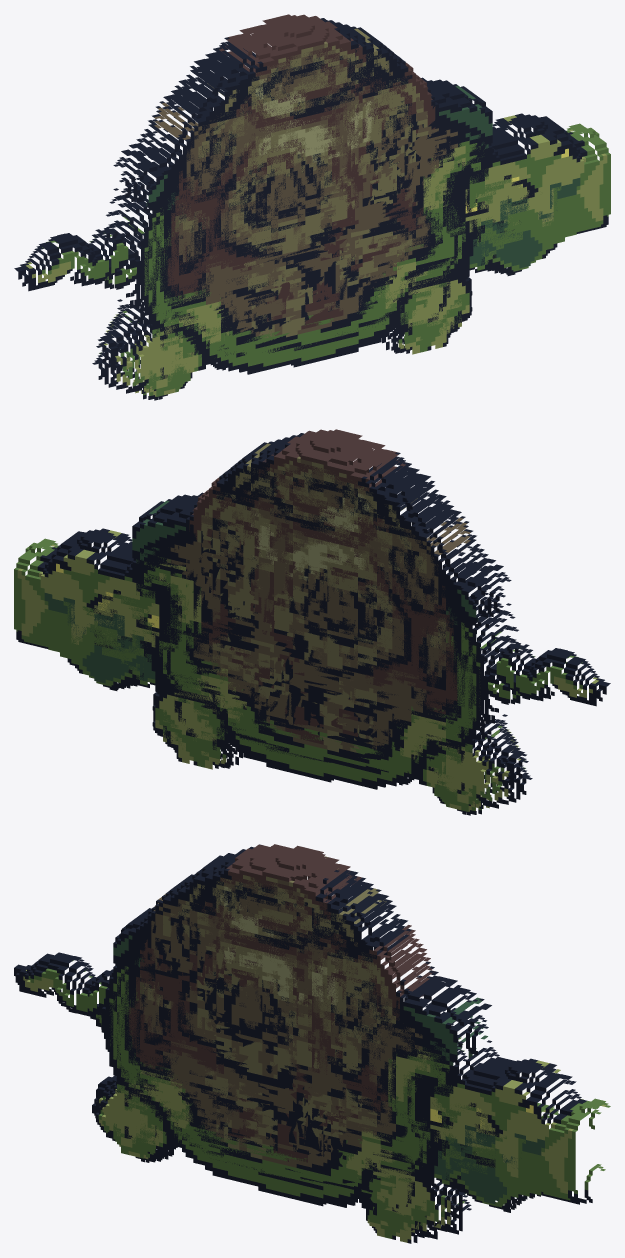
The model's file is guardiao_tartaruga.glb.
3 renders of one model, top to bottom at view 1: azimuth 30°, elevation 25°; view 2: azimuth 150°, elevation 25°; view 3: azimuth 330°, elevation 25°, orthographic.
Parts seen in each view (by area): view 1: q2, q0, q1; view 2: q2, q0, q1; view 3: q2, q0, q1.
Boxes of the visible parts, left/top/right/bottom form: q2: left=14, top=14, right=610, bottom=400; q0: left=108, top=29, right=461, bottom=379; q1: left=95, top=33, right=561, bottom=391; q2: left=14, top=429, right=610, bottom=815; q0: left=163, top=443, right=516, bottom=794; q1: left=63, top=449, right=529, bottom=806; q2: left=14, top=844, right=610, bottom=1243; q0: left=109, top=860, right=467, bottom=1211; q1: left=88, top=861, right=558, bottom=1233.
Bounding box in the file's own units: 152 × 87 × 16.
Materials: 1 (1 with a texture image).
